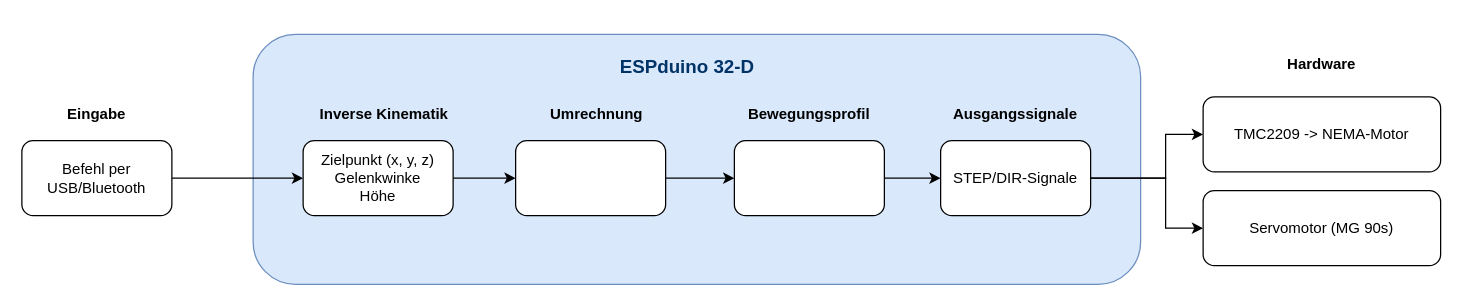
The diagram is 1463 pixels wide and 306 high, and some of its shapes have lost their labels. The shapes that lost their labels are listed below. From the top down, each one's centre as x and y in pixels, then its label:
(x=590, y=177): Winkel/mm in Motorschritte
(x=808, y=177): Beschleunigungs-rampe
